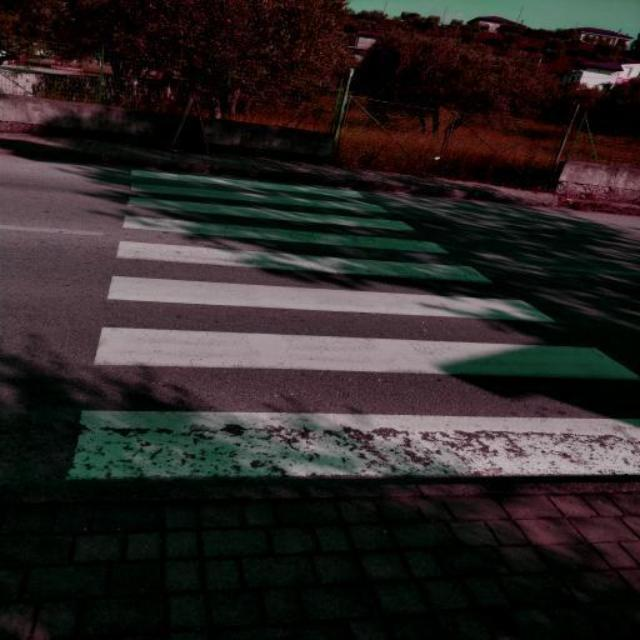sidewalk: (69, 170, 635, 483)
